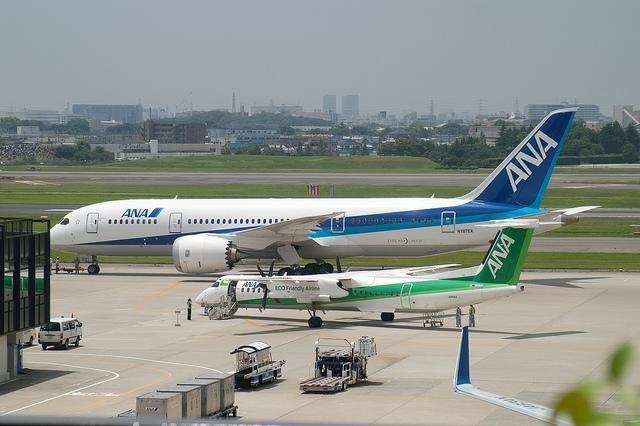car: (39, 319, 82, 350)
truck: (300, 336, 379, 392), (230, 340, 288, 388)
